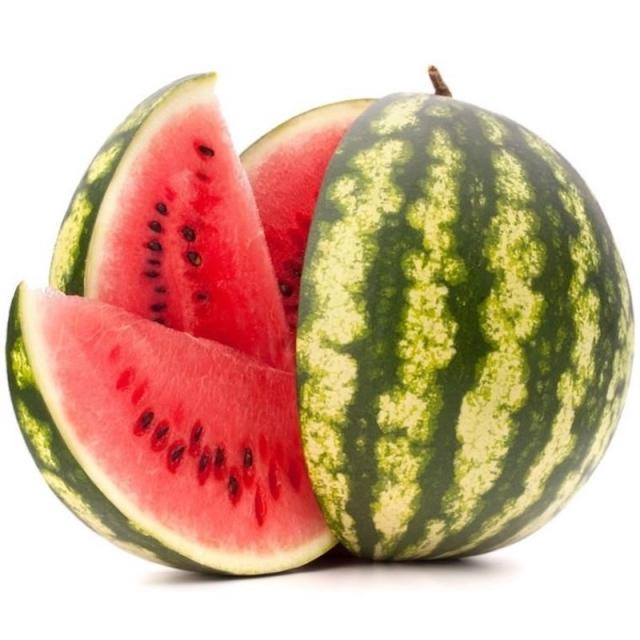Watermelon: (242, 68, 632, 560), (8, 75, 335, 574)
